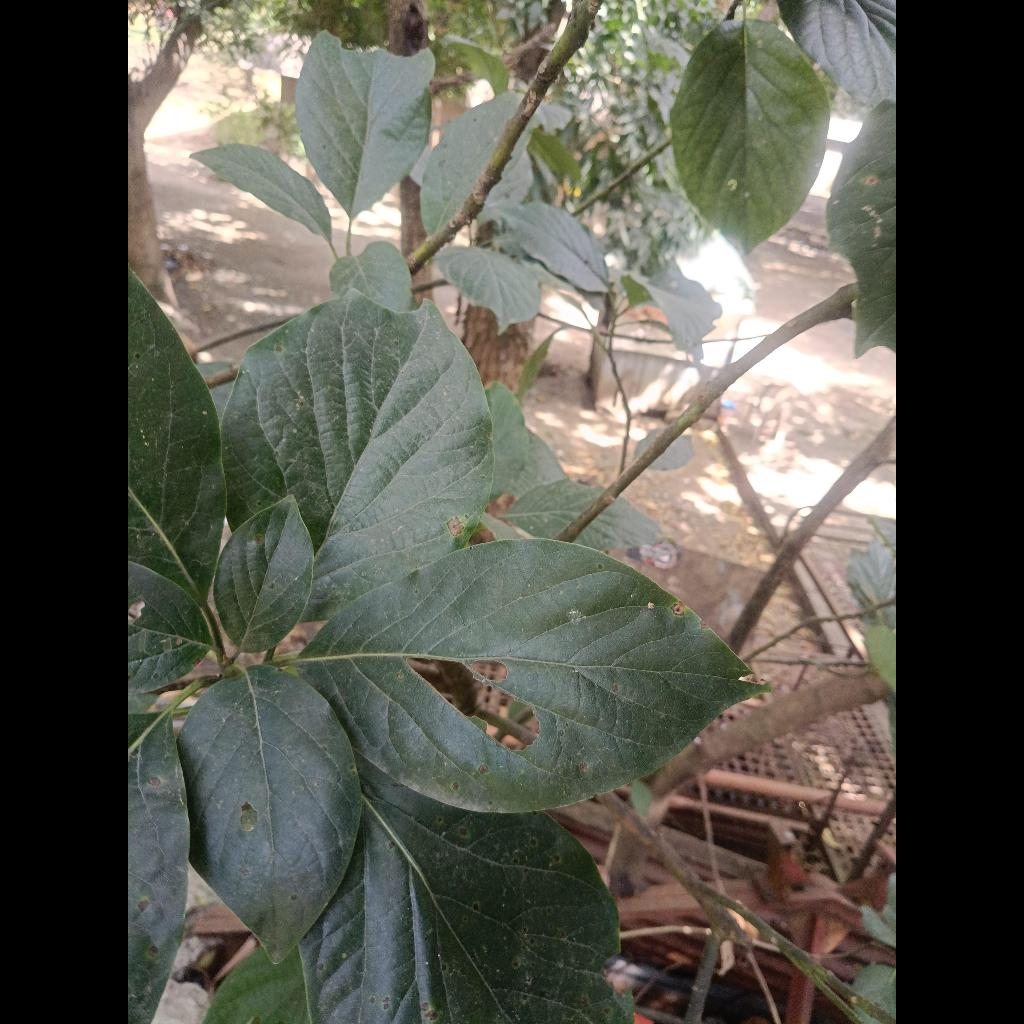plaga: (295, 540, 761, 811)
